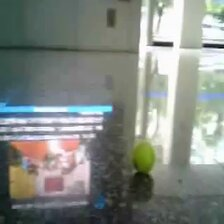tennis: (133, 142, 155, 171)
